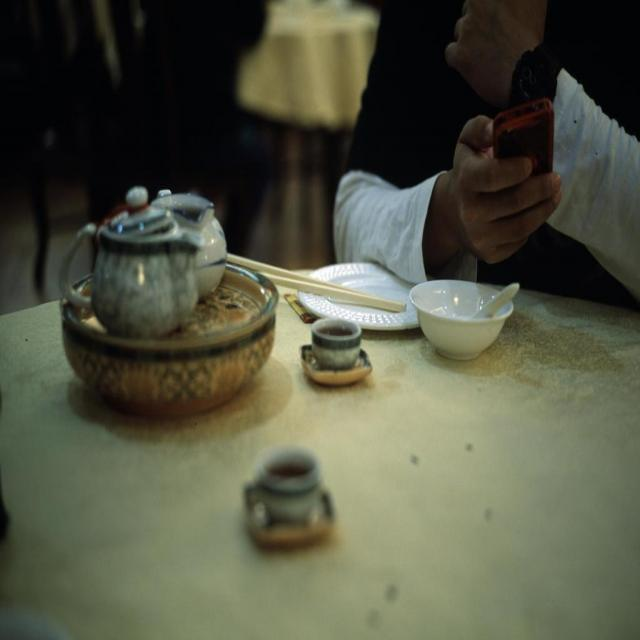ceramic plate: (61, 220, 286, 410)
